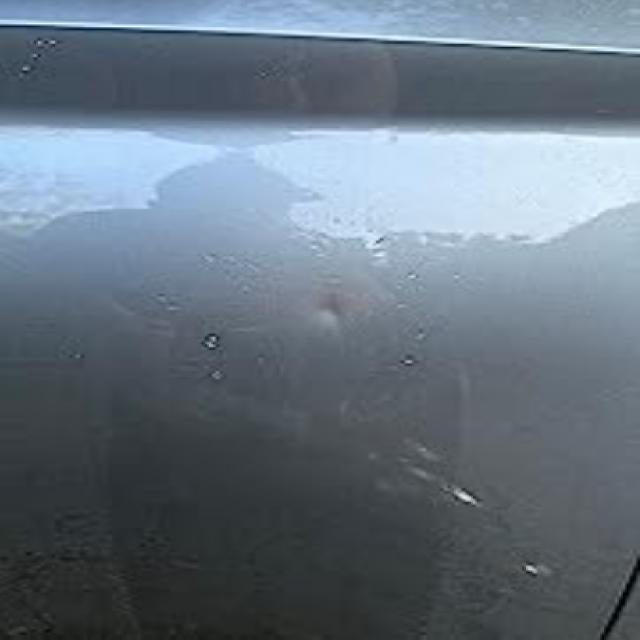dents: (305, 290, 406, 346)
